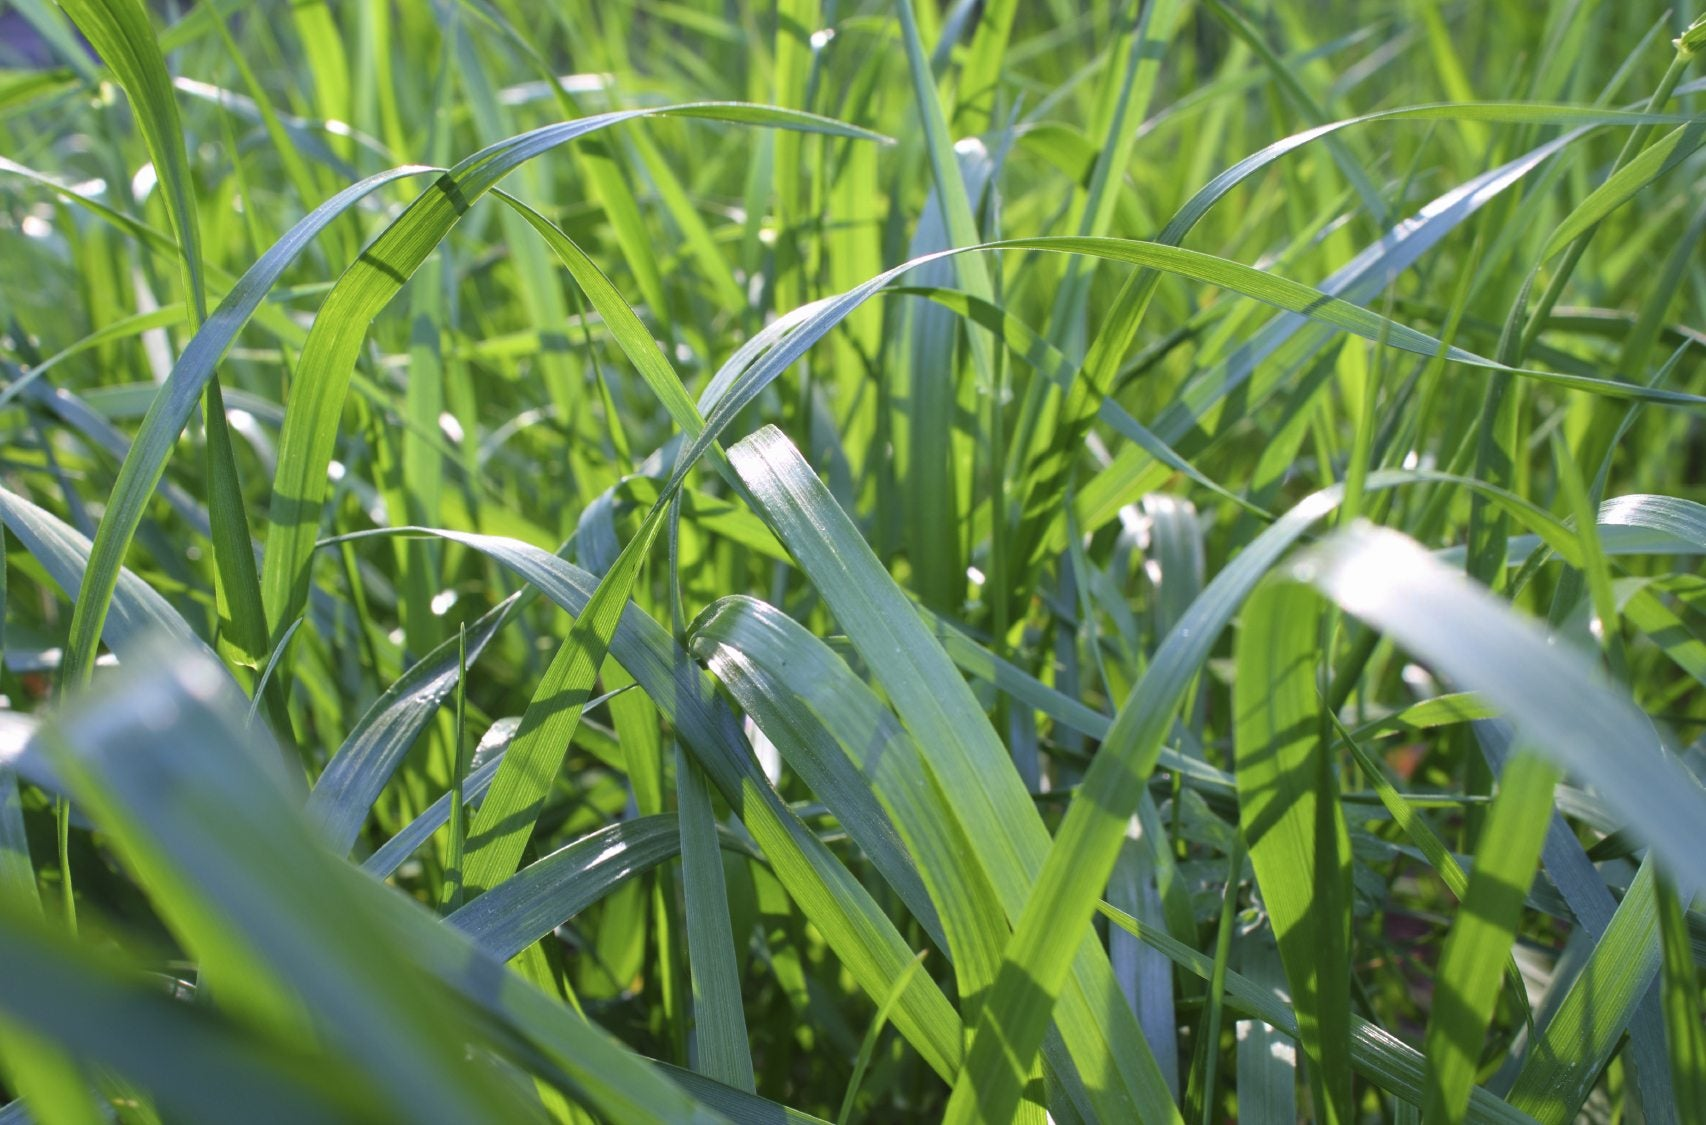grass: (3, 1, 1705, 1125)
